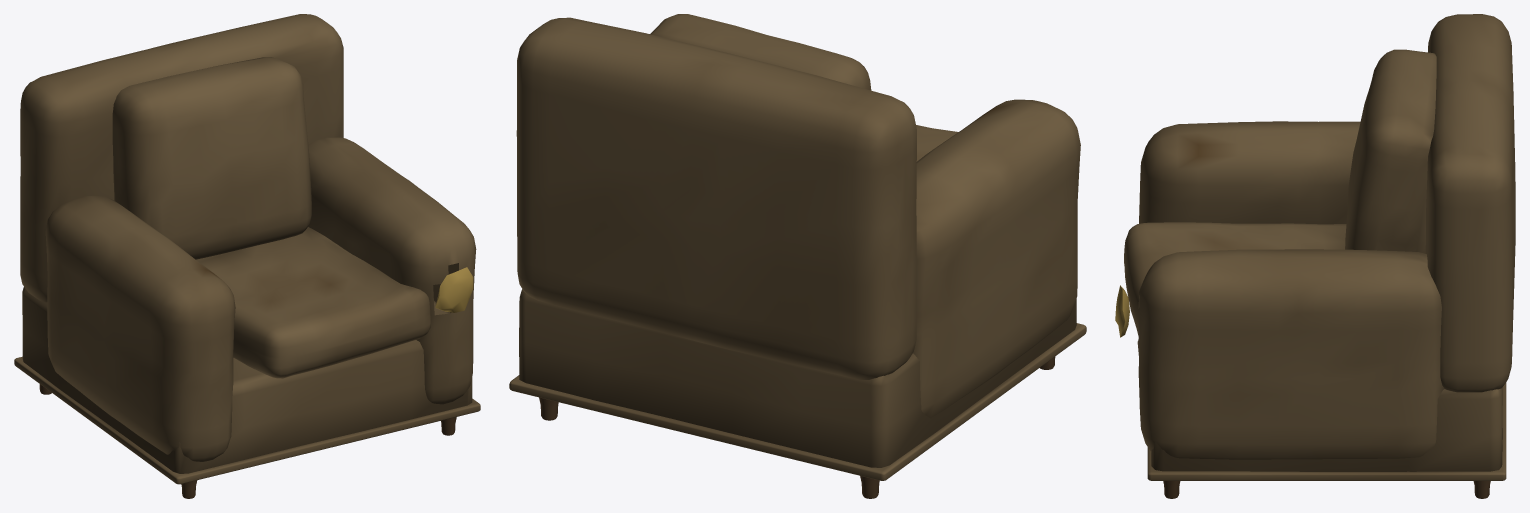
Rendered from armchair_worn.glb.
The picture shows the model from 3 angles, left to right: view 1: azimuth 30°, elevation 25°; view 2: azimuth 150°, elevation 25°; view 3: azimuth 270°, elevation 25°; orthographic projection. The views are drawn at different scales.
Parts seen in each view (by area): view 1: armchair_worn; view 2: armchair_worn; view 3: armchair_worn.
Part boxes in pixels (x1,y1,x2,y2): armchair_worn: (14, 14, 480, 498); armchair_worn: (509, 14, 1086, 498); armchair_worn: (1115, 14, 1515, 498).
Bounding box in the file's own units: 0.9744 × 0.9355 × 0.9807.
